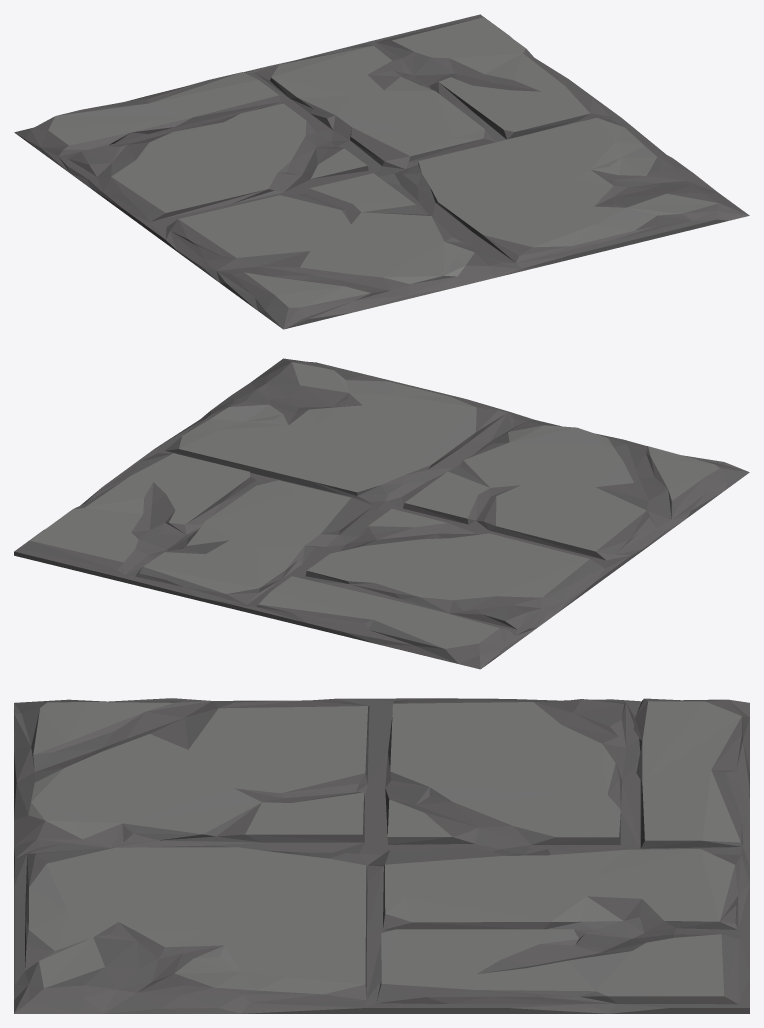
File: SM_Env_Tiles_03.FBX
The picture shows the model from 3 angles, top to bottom: view 1: azimuth 30°, elevation 25°; view 2: azimuth 150°, elevation 25°; view 3: azimuth 270°, elevation 25°; orthographic projection. The views are drawn at different scales.
Visible parts, largest first — view 1: SM_Env_Tiles_03; view 2: SM_Env_Tiles_03; view 3: SM_Env_Tiles_03.
Boxes of the visible parts, x1,y1,x2,y2 form: SM_Env_Tiles_03: (14, 14, 749, 329); SM_Env_Tiles_03: (14, 358, 749, 669); SM_Env_Tiles_03: (14, 698, 749, 1013).
Size of what is drawn, in the model's own units: 500 by 500 by 10.14.
